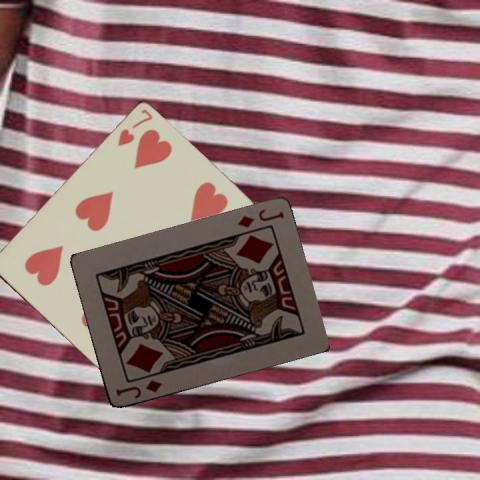7h: (115, 106, 154, 148)
Jd: (112, 377, 163, 401), (234, 206, 285, 230)
